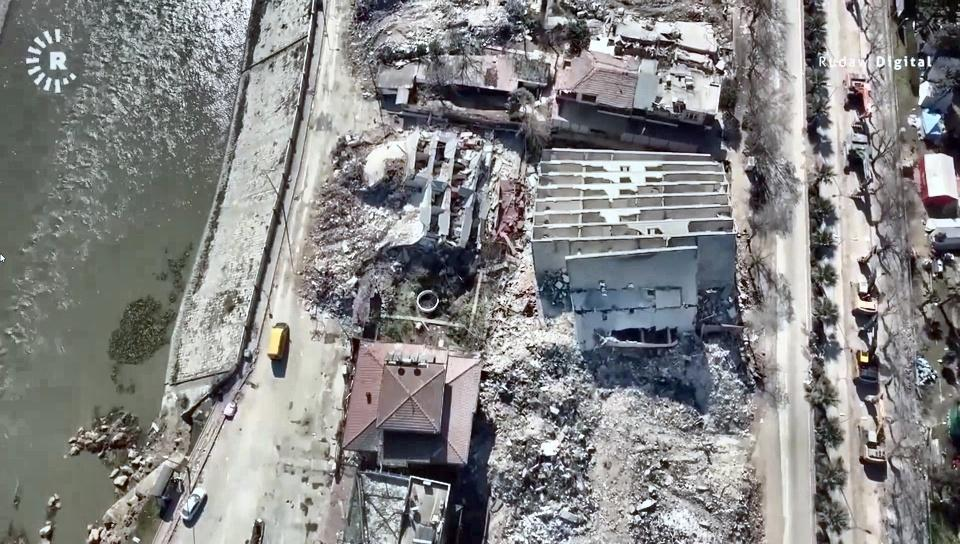kapali: (262, 113, 392, 338), (312, 1, 408, 110)
